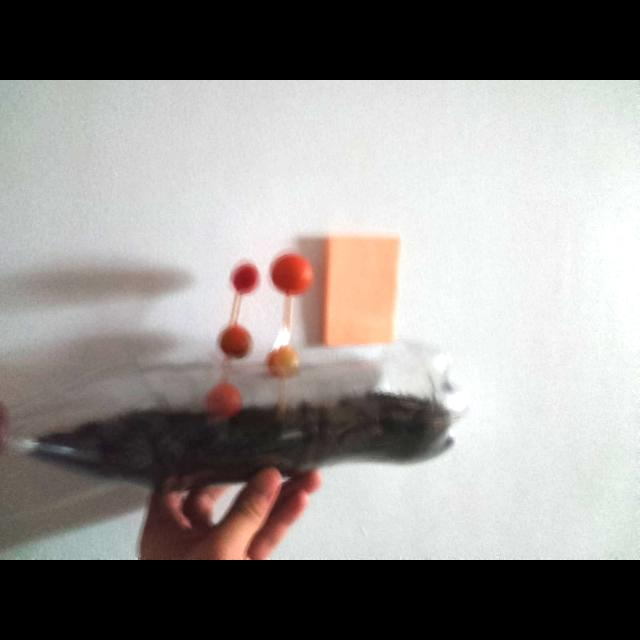card: (323, 236, 400, 345)
fruit_maturation: (267, 345, 299, 378)
fully_grown: (271, 254, 312, 297), (206, 382, 241, 418), (219, 324, 252, 359), (231, 263, 259, 295)
